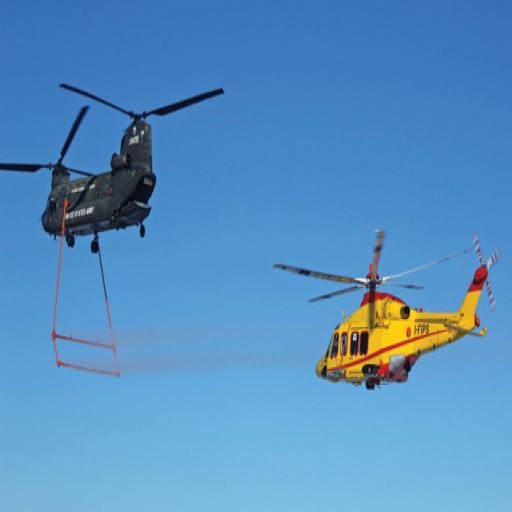helicopter: (1, 80, 229, 244), (274, 229, 502, 389)
